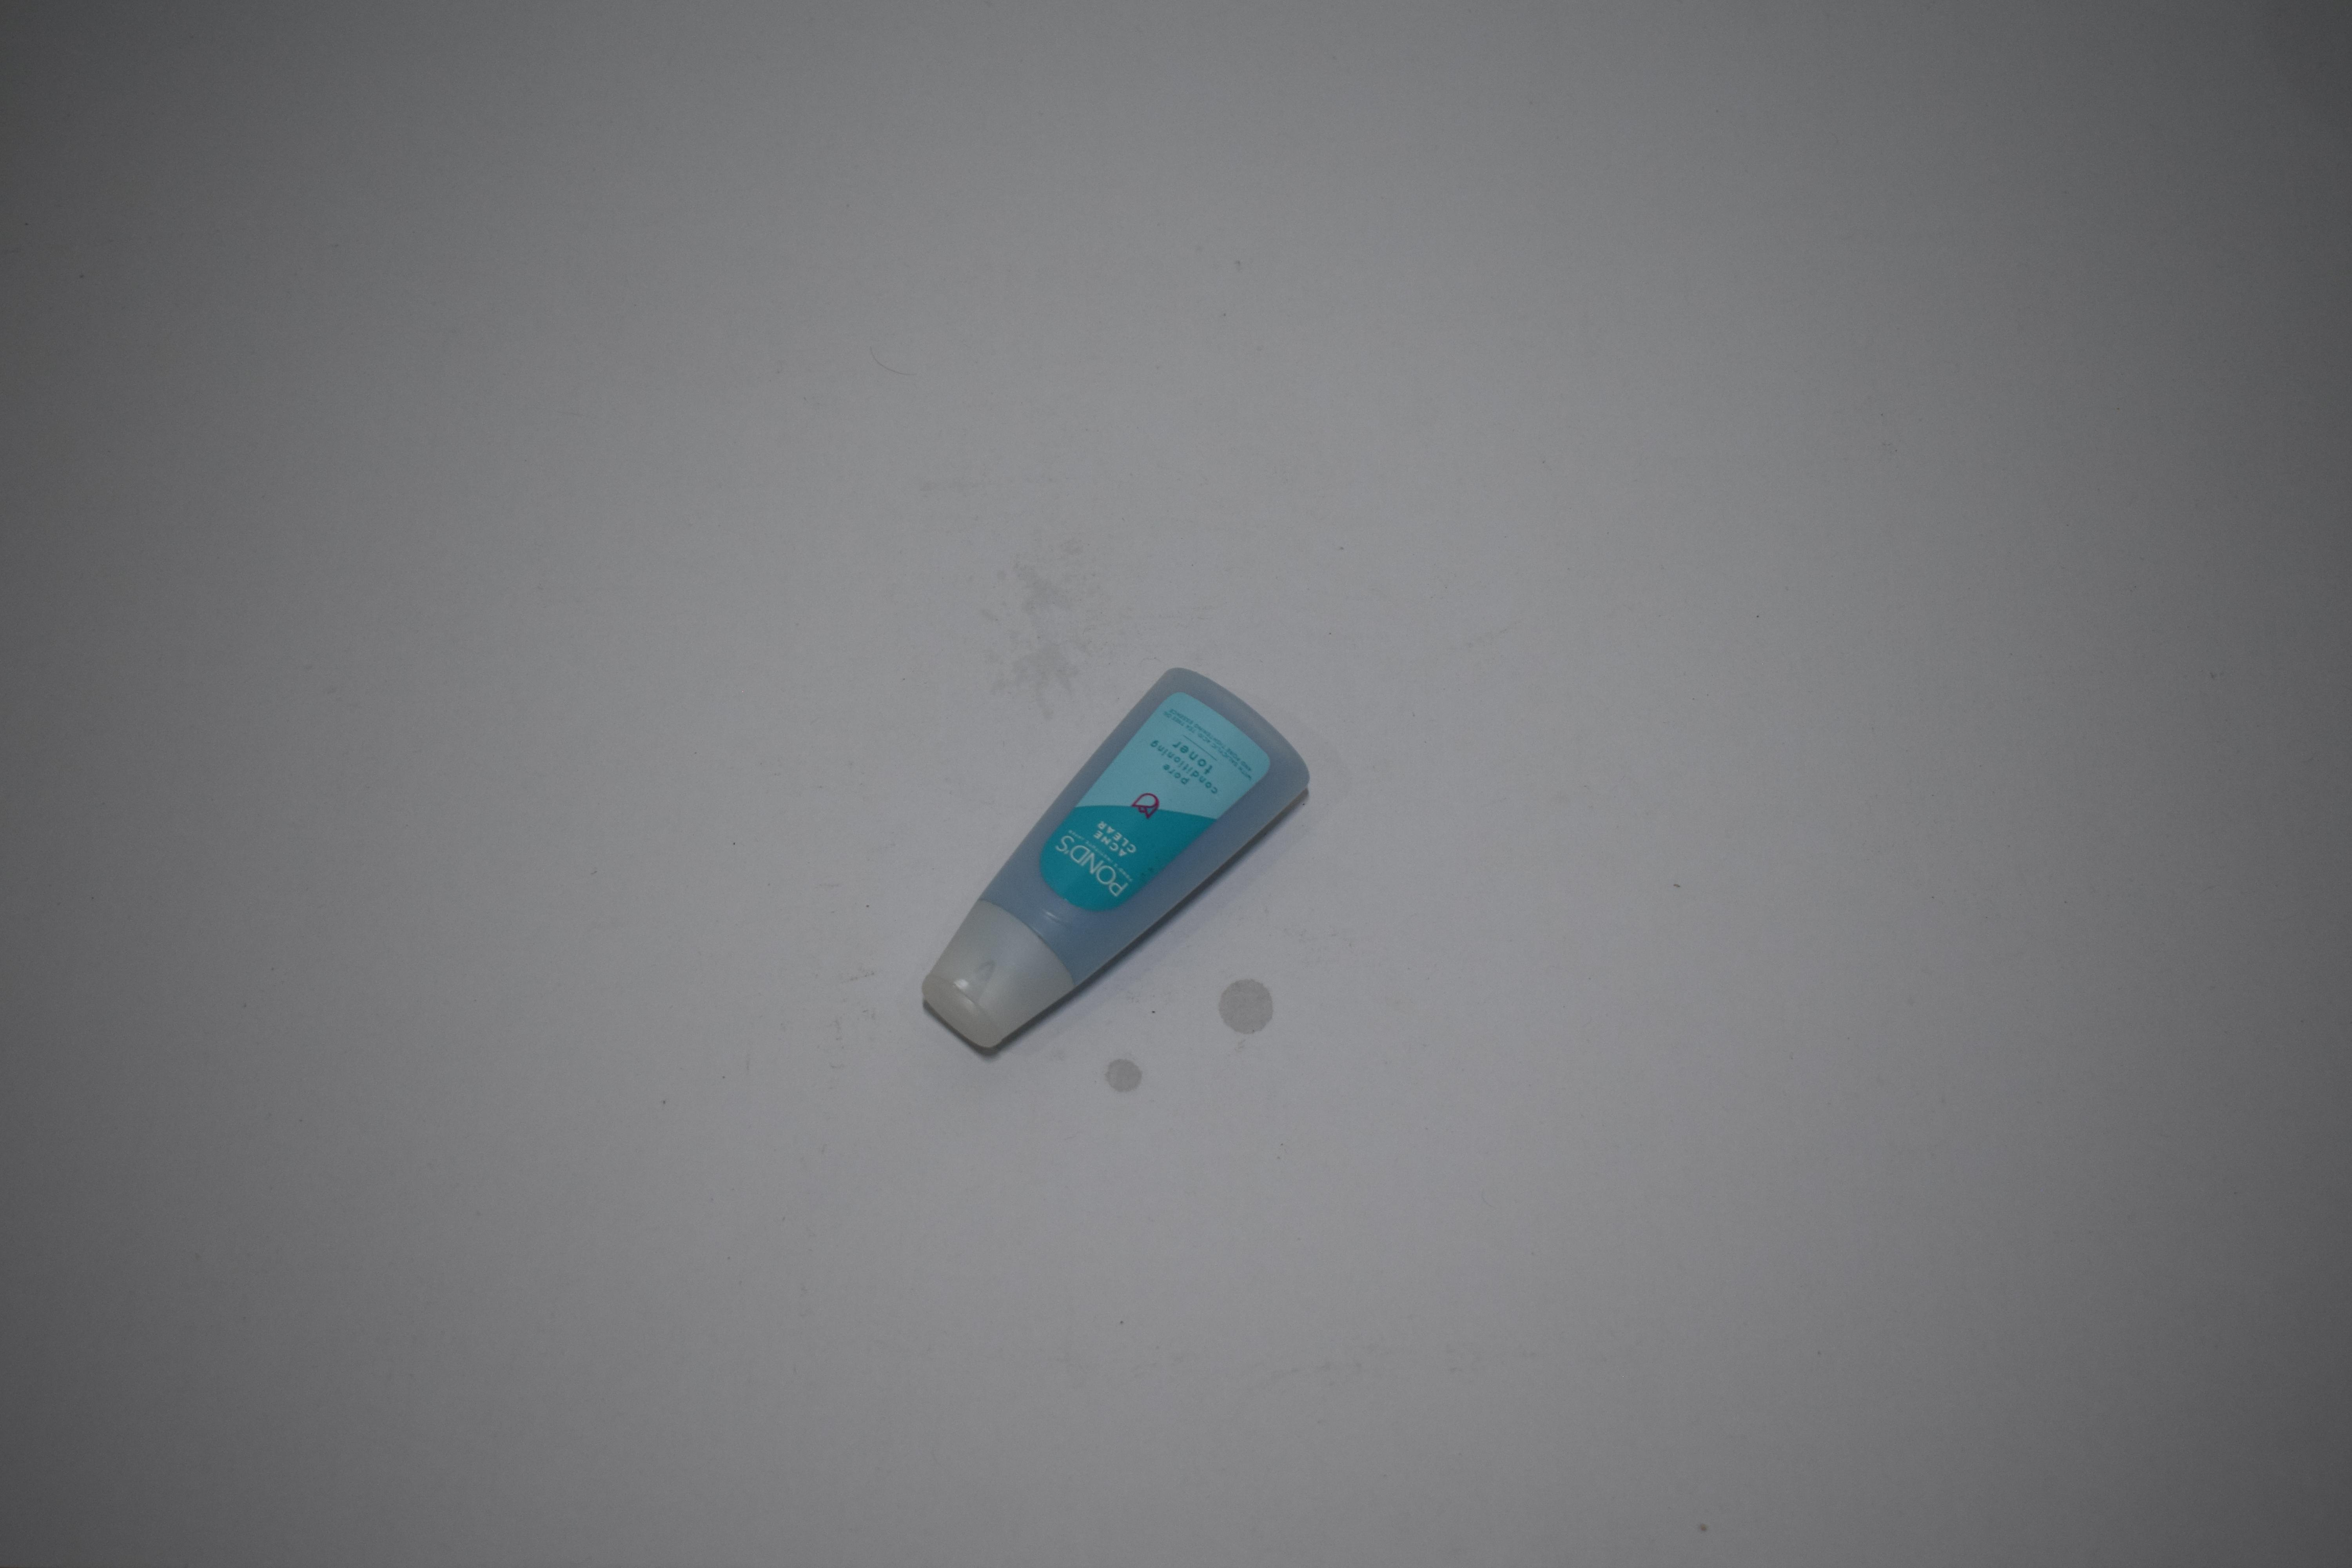bottle: (910, 0, 1318, 282)
